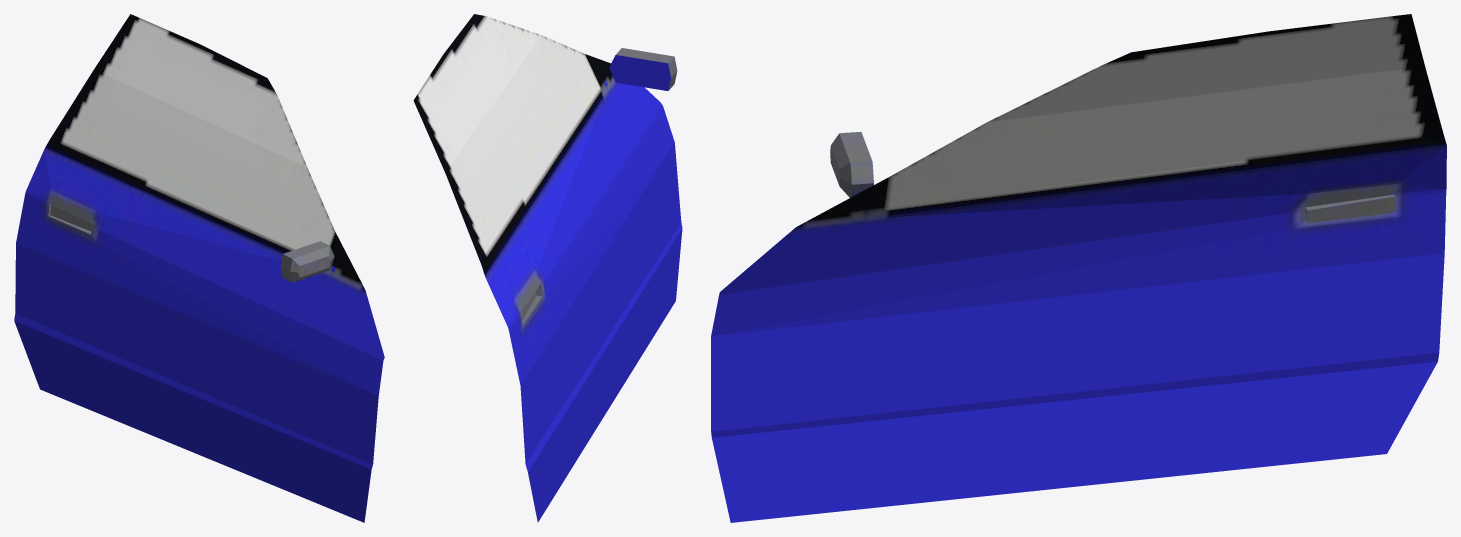
The model's file is rightdoor3.obj.
3 renders of one model, left to right at view 1: azimuth 30°, elevation 25°; view 2: azimuth 150°, elevation 25°; view 3: azimuth 270°, elevation 25°, orthographic. The views are drawn at different scales.
Visible parts, largest first — view 1: rightdoor; view 2: rightdoor; view 3: rightdoor.
Boxes of the visible parts, x1,y1,x2,y2 form: rightdoor: (14,14,384,522); rightdoor: (413,14,682,522); rightdoor: (711,14,1446,522).
Size of the model in its own units: 0.3181 by 0.7008 by 0.914.
